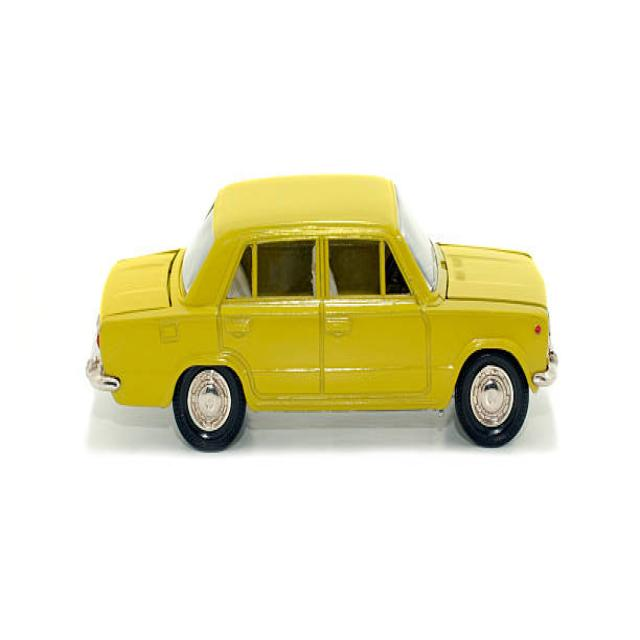Car: (85, 172, 558, 453)
